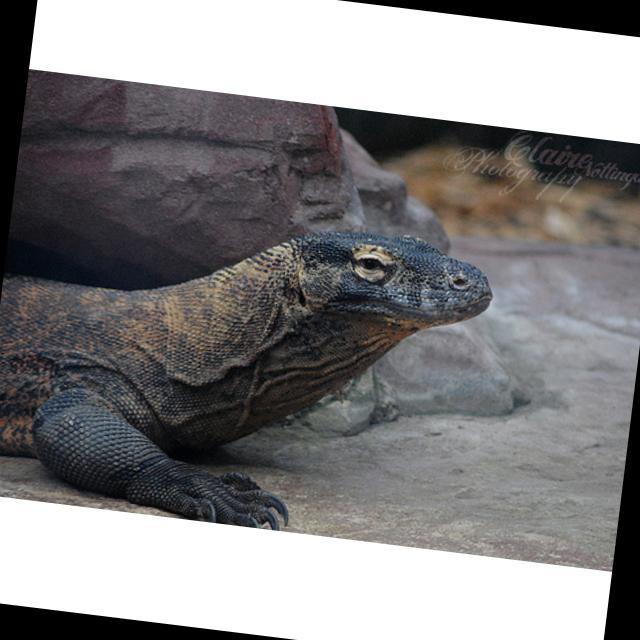KomodoDragon: (0, 184, 498, 550)
